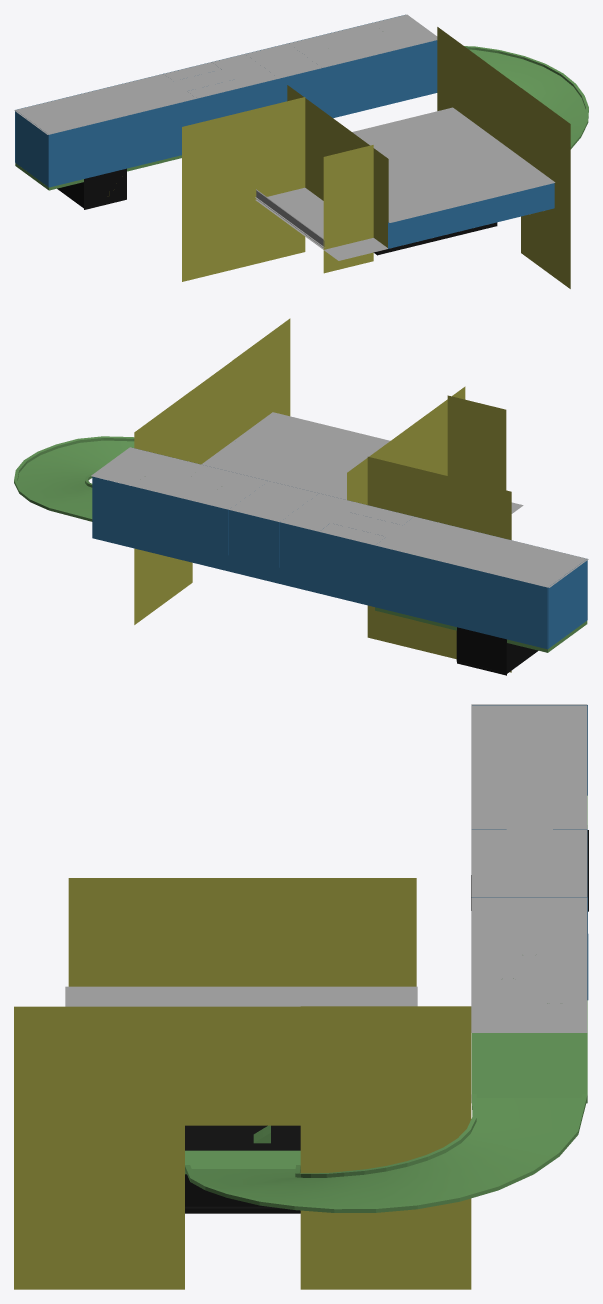
File: TutorialLevel.fbx
3 views of the same model, one above another, from view 1: azimuth 30°, elevation 25°; view 2: azimuth 150°, elevation 25°; view 3: azimuth 270°, elevation 25° (orthographic). The views are drawn at different scales.
Visible parts, largest first — view 1: UpperPlatform8; view 2: UpperPlatform8; view 3: UpperPlatform8.
Part boxes in pixels (<box>): UpperPlatform8: <box>14,14,588,288</box>; UpperPlatform8: <box>14,318,588,675</box>; UpperPlatform8: <box>14,704,588,1289</box>.
Bounding box in the file's own units: 85.36 × 26.95 × 49.58.
